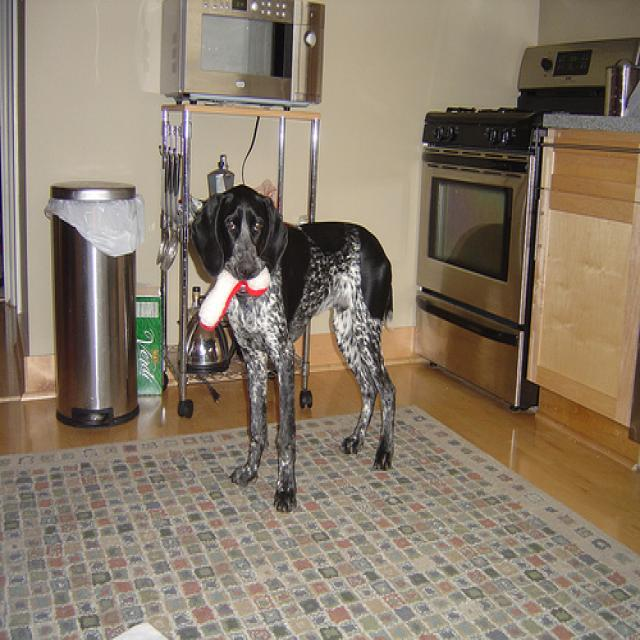dog-german_shorthaired: (191, 183, 406, 515)
